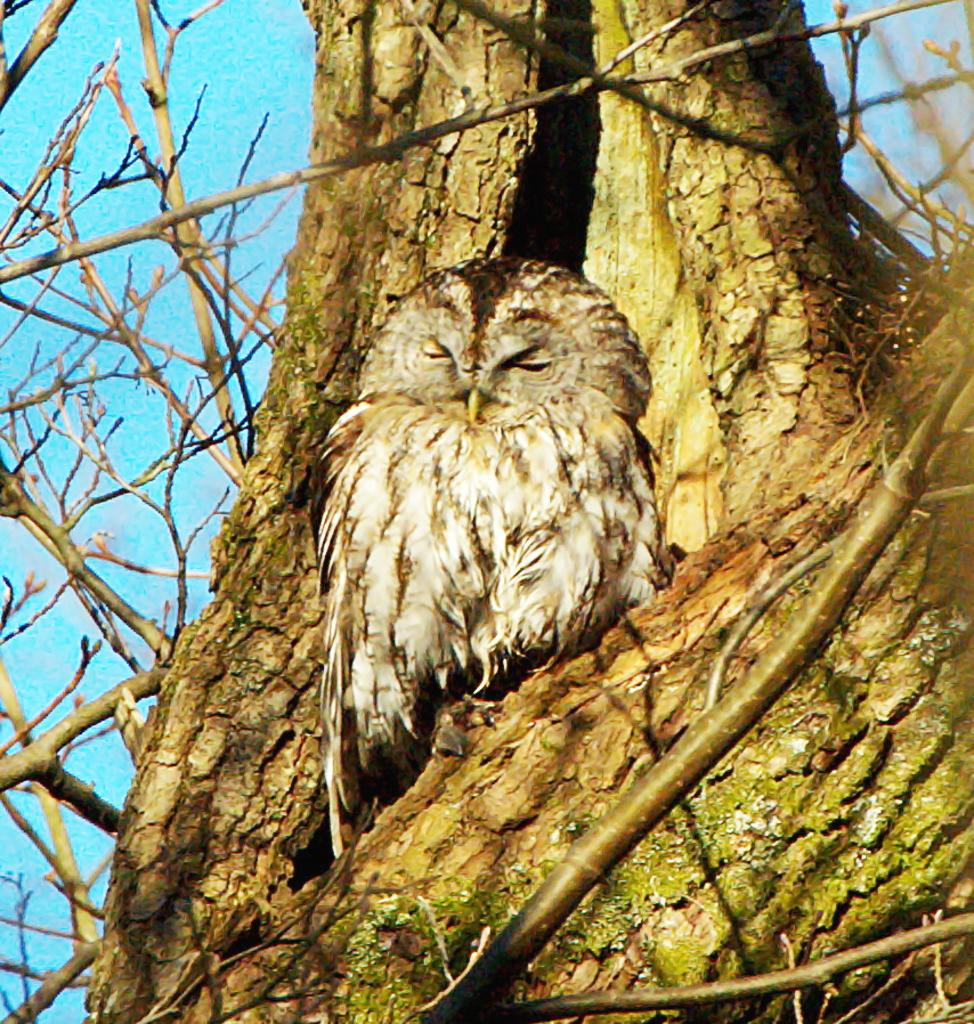Owl: (293, 262, 643, 858)
